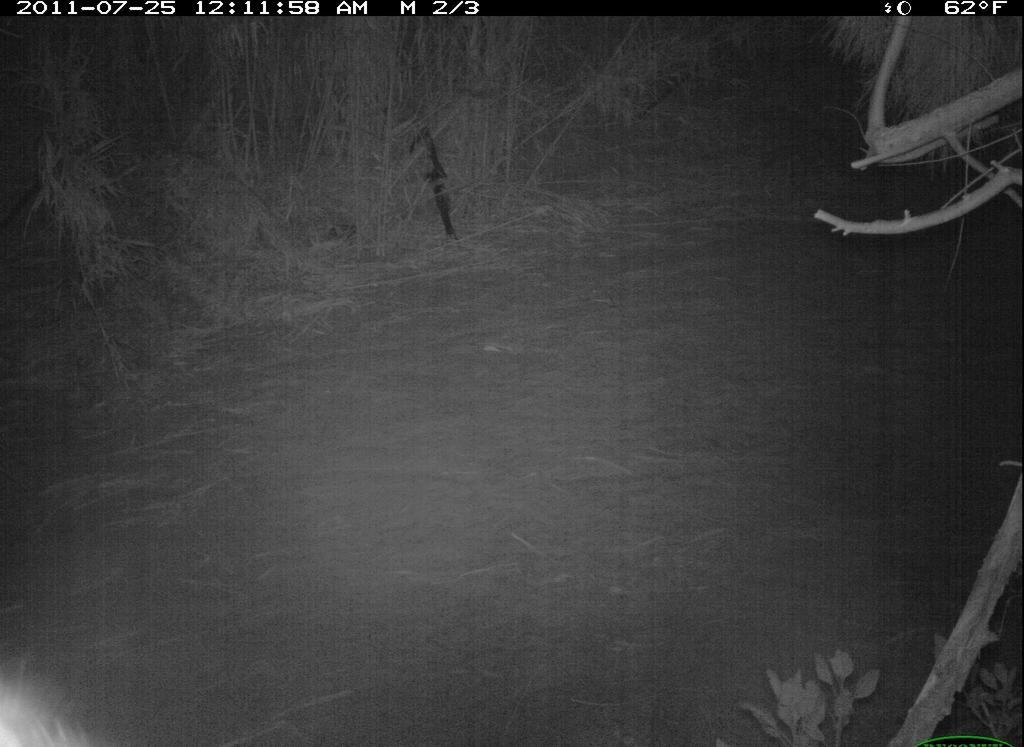raccoon: (3, 661, 111, 747)
